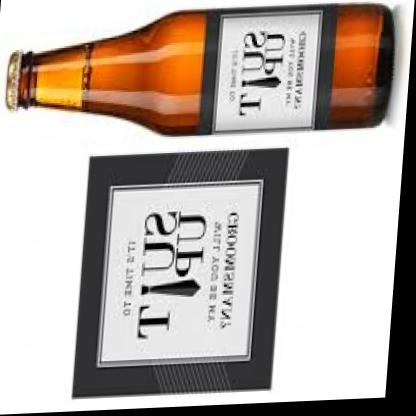trash: (6, 4, 393, 134)
